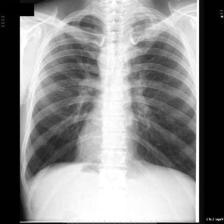tuberculosis: (21, 9, 197, 196)
